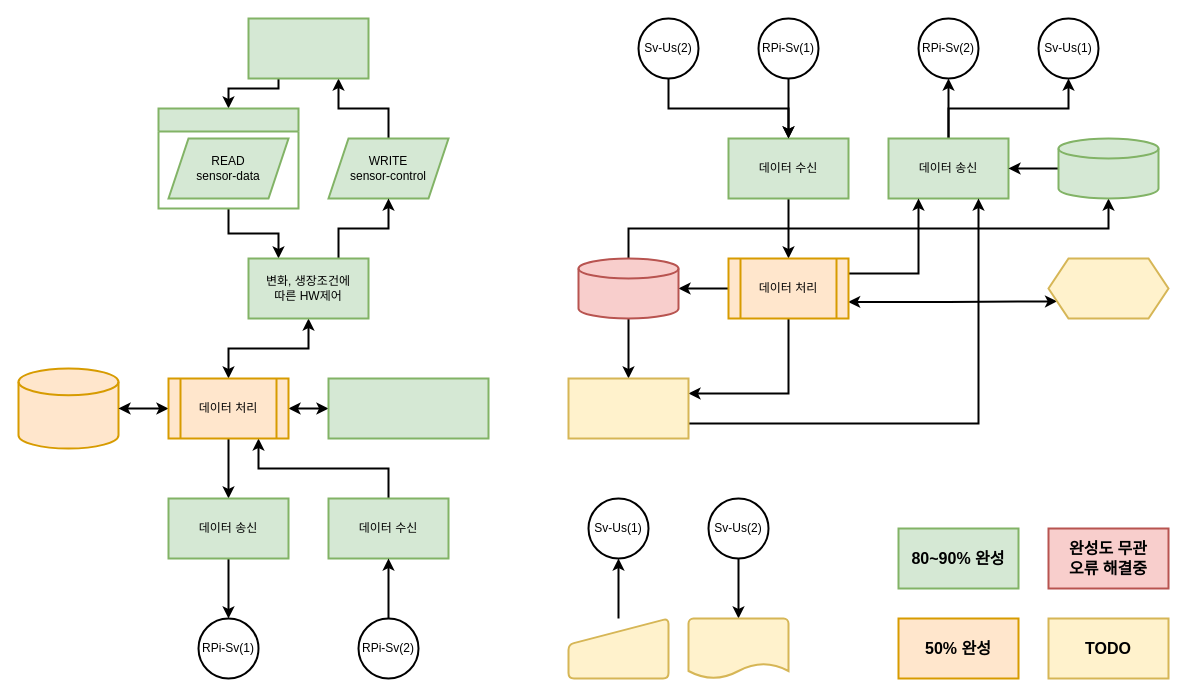
The diagram is 1186 pixels wide and 696 high, and some of its shapes have lost their labels. Here are the shapes that lost their labels. From the top down, the centre of each, then its label:
the point at 308,48: HW
the point at 228,158: ----- time 20(m)
the point at 1108,168: 식물 생장 조건
the point at 628,288: 모든 식물 기록
the point at 1108,288: 사용자 확인 및 특정
the point at 68,408: 1시간 데이터, HW제어 부분
the point at 408,408: 송신 - (갱신, 센싱데이터) 수신 - (갱신, 생장조건)
the point at 628,408: 보고서 생성
the point at 618,648: 갱신요청, 센서 설정
the point at 738,648: 현제 상태, 일정 주기 보고서
